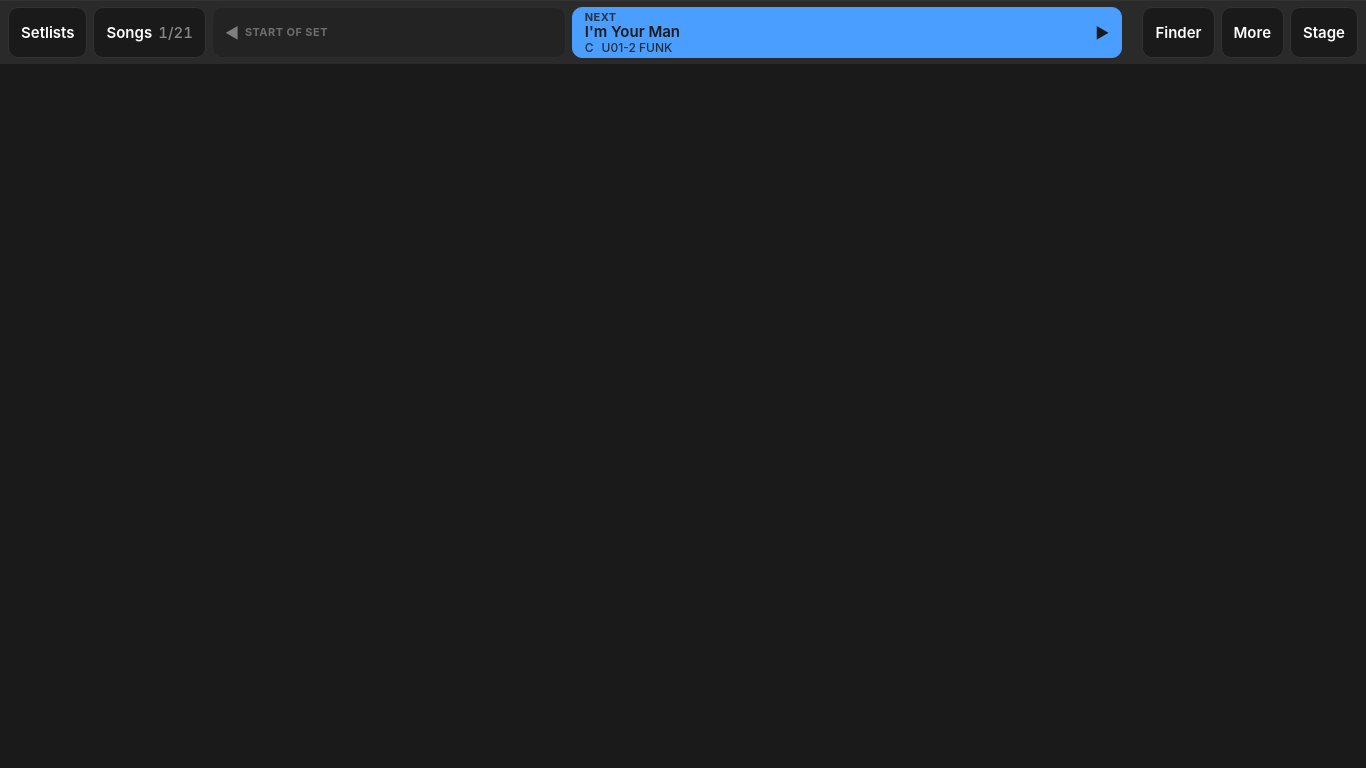
it: the More sheet, on Practice › has the three groups
The width and height of the screenshot is (1366, 768).
What coordinates should you click on to do the following:
click the button "More"
I would click on:
 (1252, 32)
Its box is [1220,7,1284,58].
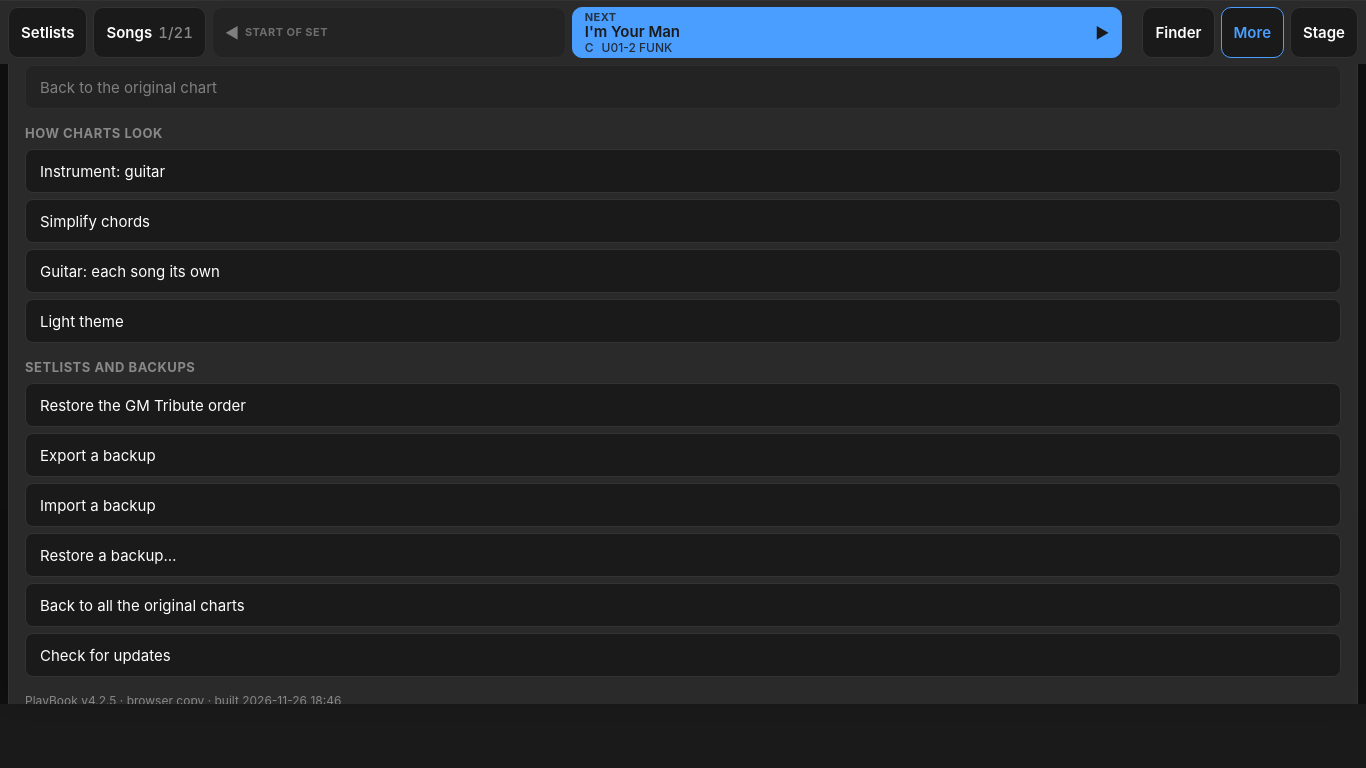
Expected: the heading "This song" is shown, [25,41,102,57]
Expected: the heading "How charts look" is shown, [25,125,163,141]
Expected: the heading "Setlists and backups" is shown, [25,359,195,375]
